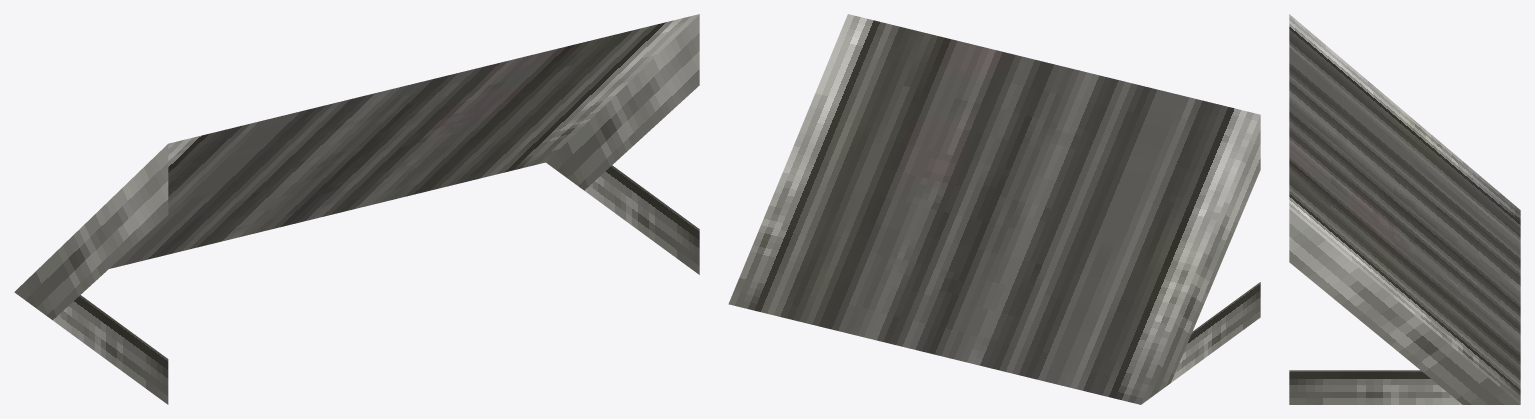
File: kenney-retro-urban-detail-awning-small.glb
The picture shows the model from 3 angles, left to right: view 1: azimuth 30°, elevation 25°; view 2: azimuth 150°, elevation 25°; view 3: azimuth 270°, elevation 25°; orthographic projection. The views are drawn at different scales.
Visible parts, largest first — view 1: detail-awning-small; view 2: detail-awning-small; view 3: detail-awning-small.
Part boxes in pixels (x1,y1,x2,y2): detail-awning-small: (14,14,699,404); detail-awning-small: (728,14,1260,404); detail-awning-small: (1289,14,1520,404).
Bounding box in the file's own units: 0.5978 × 0.2808 × 0.3.
Materials: 1 (1 with a texture image).
